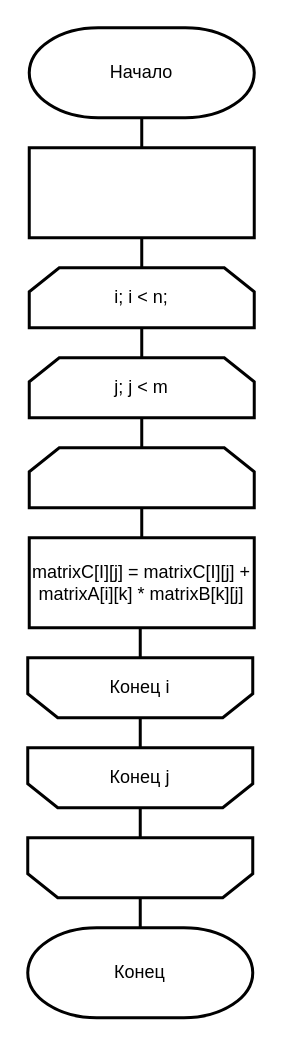
Some shapes in this 281 by 1044 pixel diagram are drawn without their labels. The centre of each missing label's shape, as x and y in pixels:
"k; k < p" goes at [141,477].
"Конец k" goes at [140,867].
"Создать матрицу" goes at [141,192].
